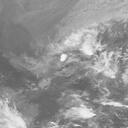cyclone: (68, 30, 103, 60)
